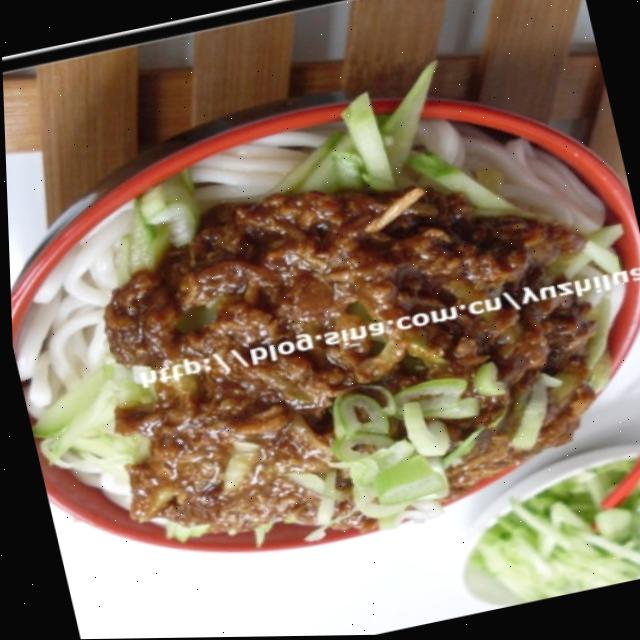面条主食: (1, 26, 640, 629)
